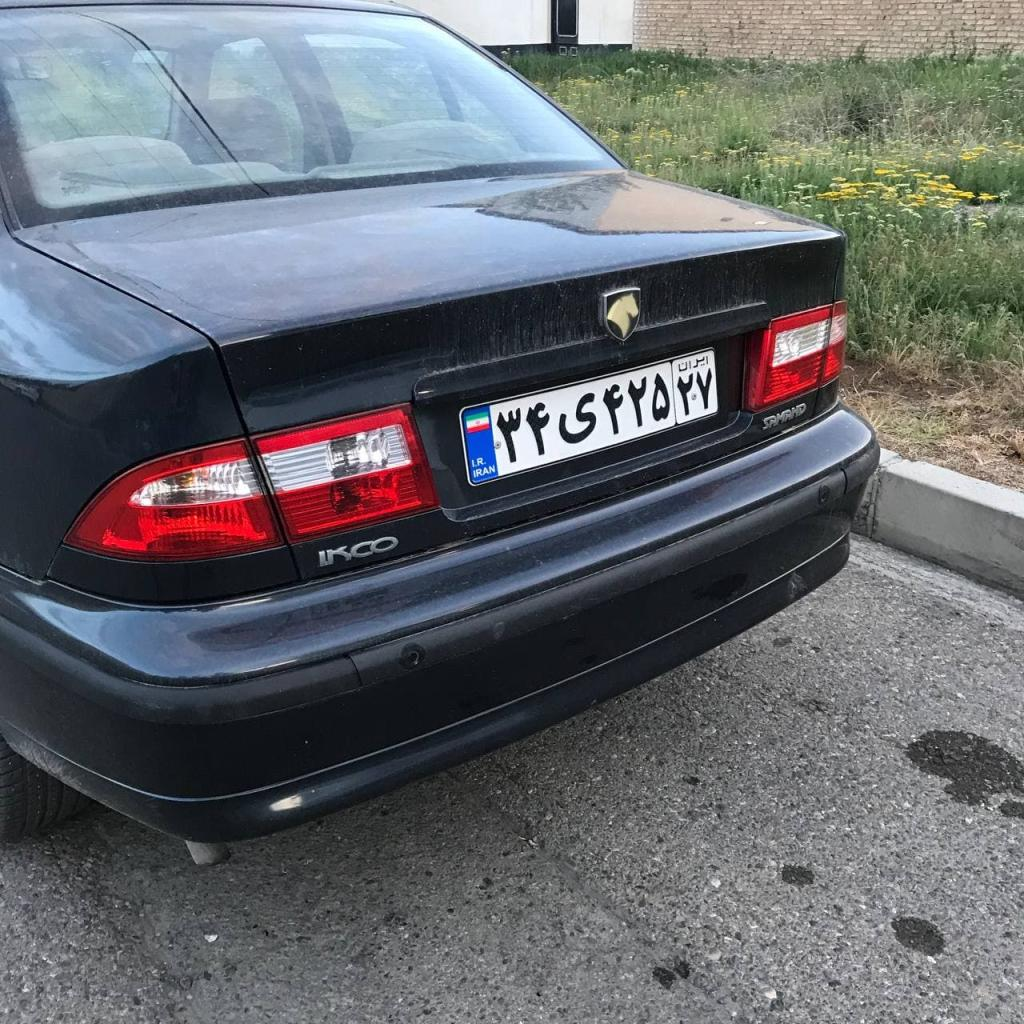Plates: (461, 348, 718, 484)
